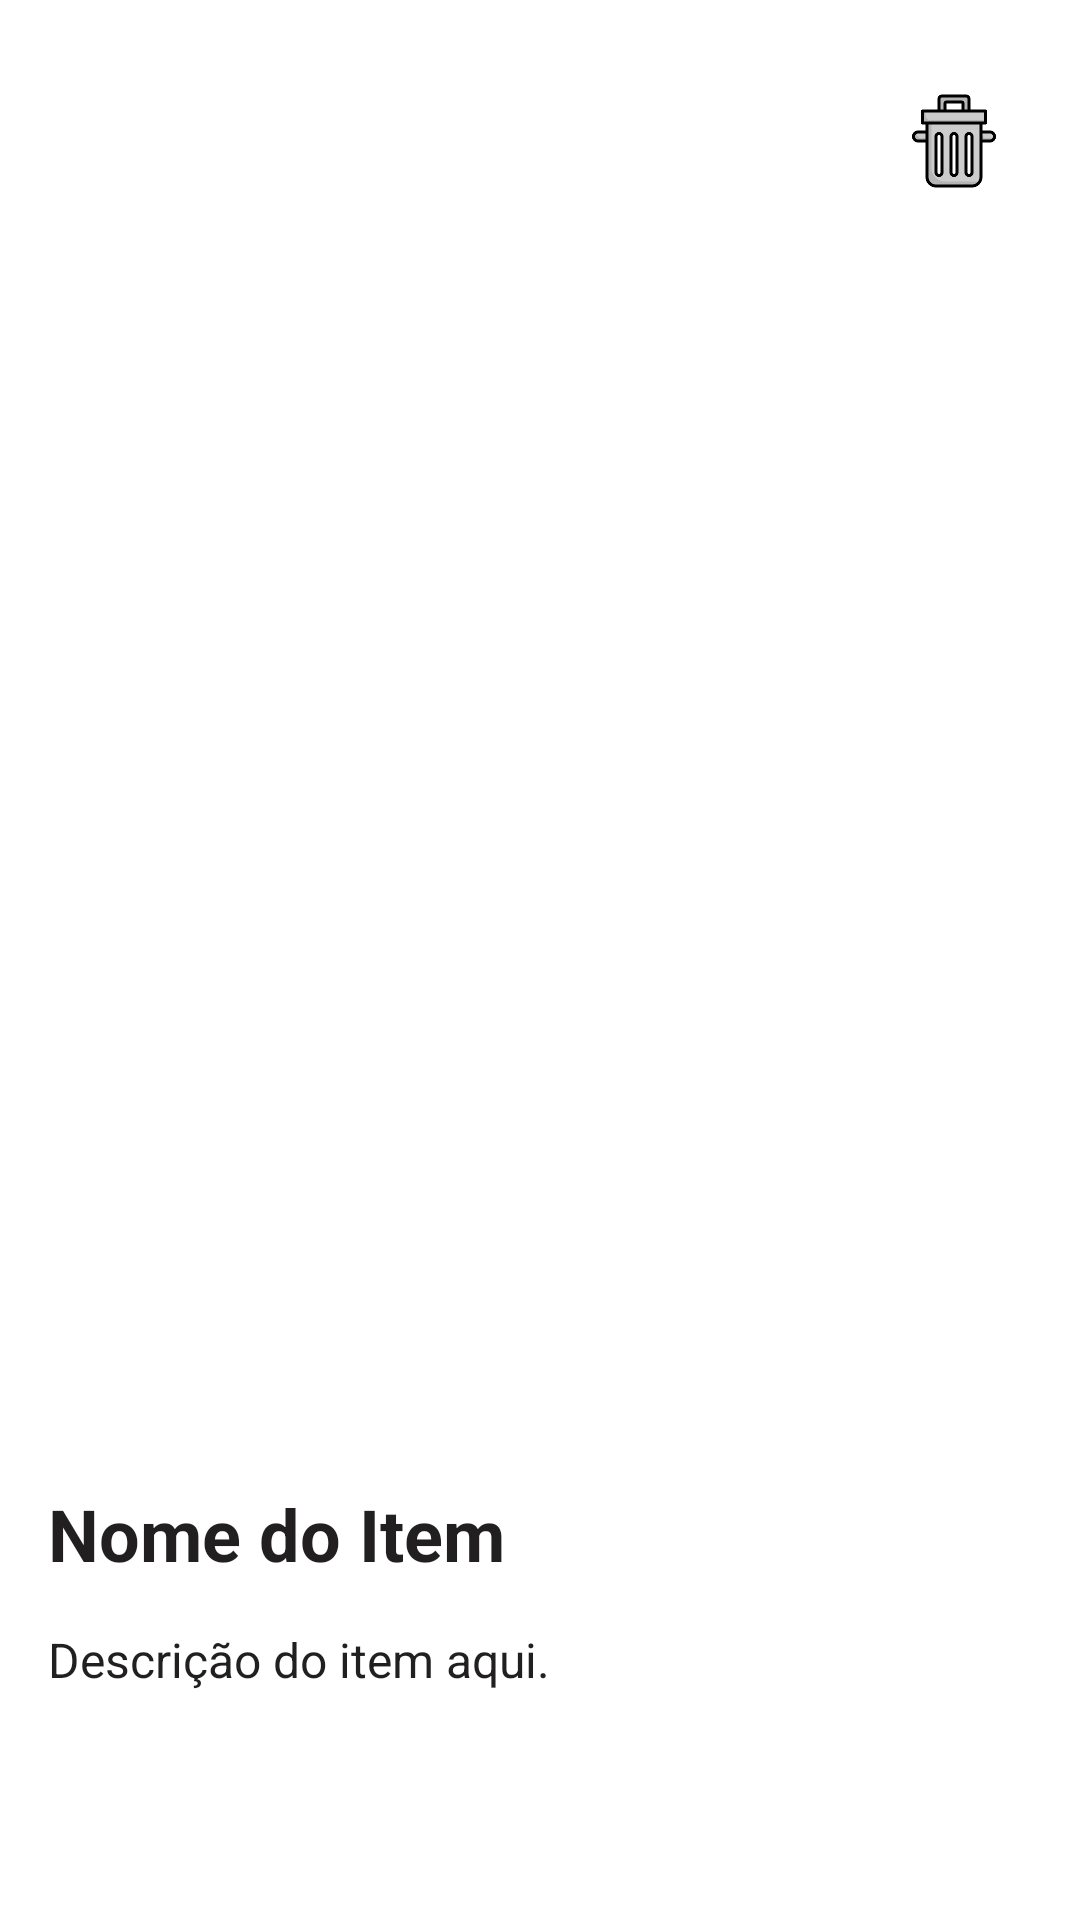

Icons on this 1080*1920 Android screen, each with the point to tap as point (x, y):
lixeira: point (954, 141)
